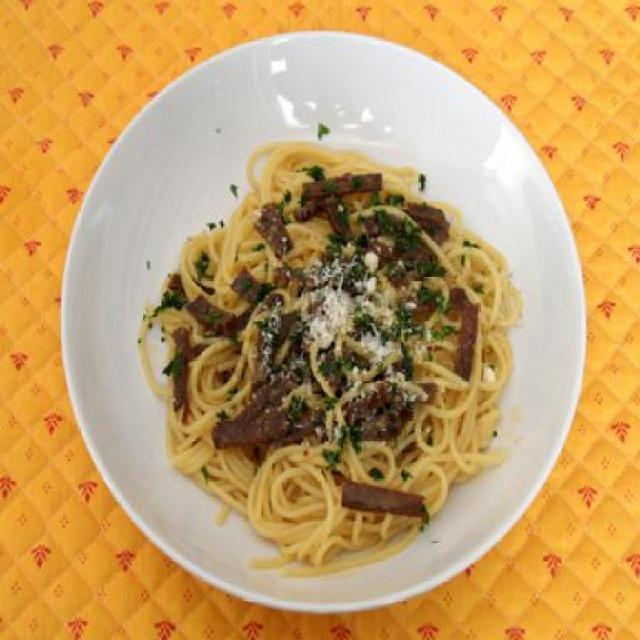Pasta with carbonara sauce: (102, 98, 584, 580)
